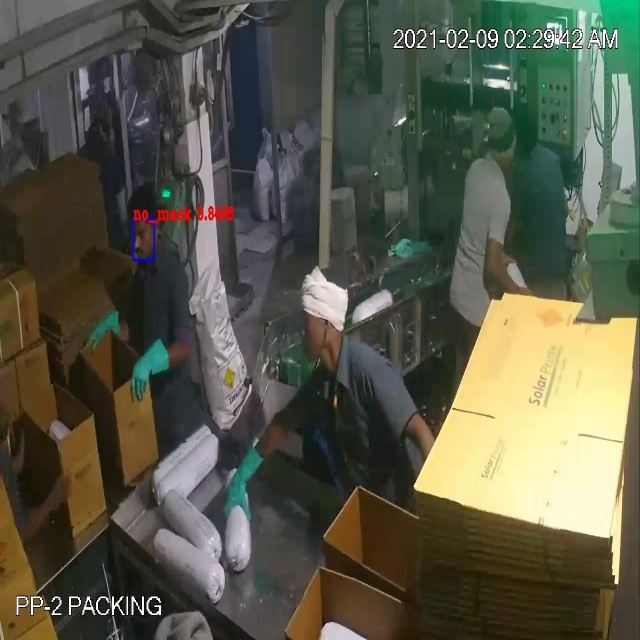Guantes: (216, 428, 272, 532), (120, 335, 175, 404), (84, 308, 125, 356)
Sin_guantes: (18, 460, 81, 542), (469, 234, 538, 304)
